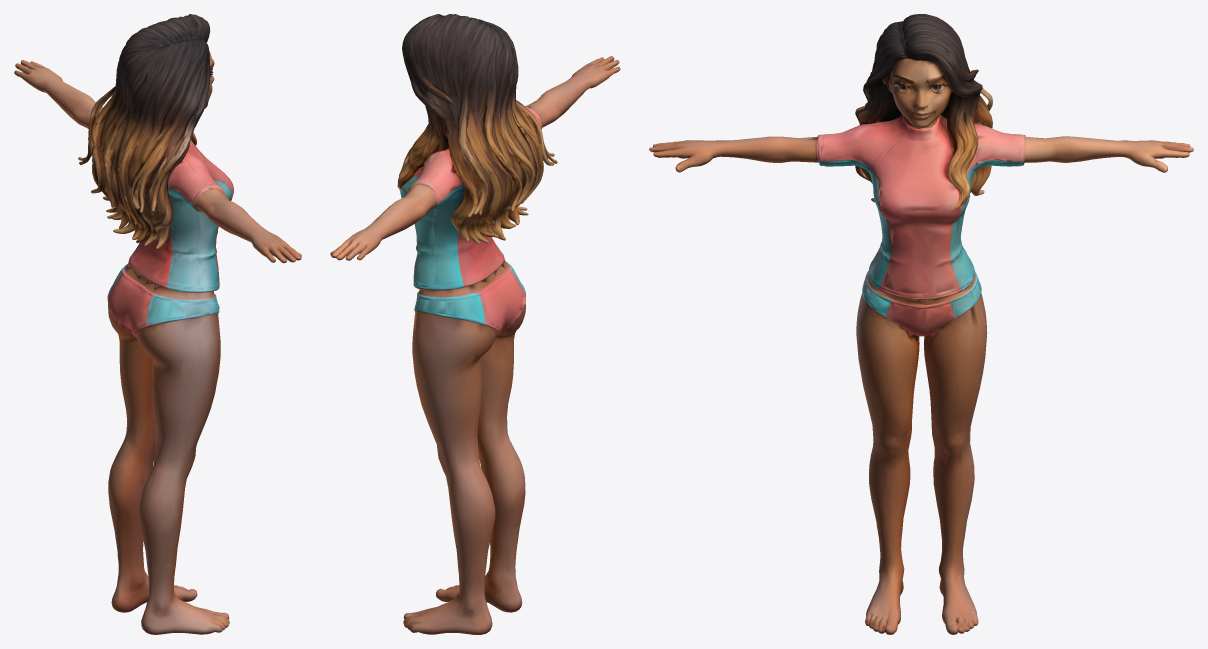
File: the-girl.glb
3 views of the same model, side by side, from view 1: azimuth 30°, elevation 25°; view 2: azimuth 150°, elevation 25°; view 3: azimuth 270°, elevation 25° (orthographic).
Visible parts, largest first — view 1: girl; view 2: girl; view 3: girl.
Part boxes in pixels (x1=…): girl: x1=14, y1=14, x2=301, y2=634; girl: x1=330, y1=14, x2=620, y2=634; girl: x1=649, y1=14, x2=1193, y2=634.
Size of the model in its own units: 0.1979 by 0.9789 by 0.8096.
Materials: 1 (1 with a texture image).
